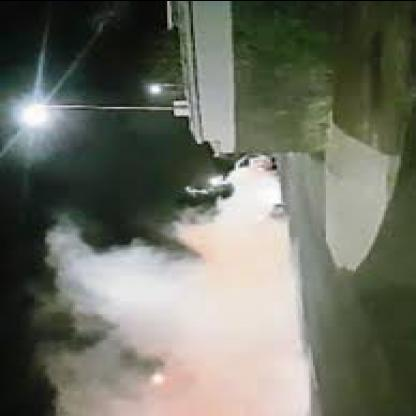Smoke: (61, 250, 275, 408)
